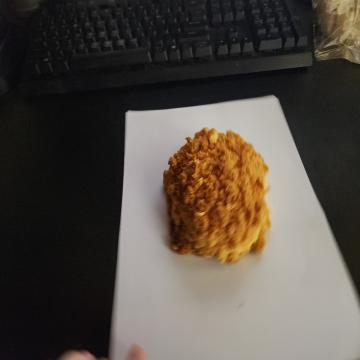soboru_bread: (161, 124, 271, 262)
